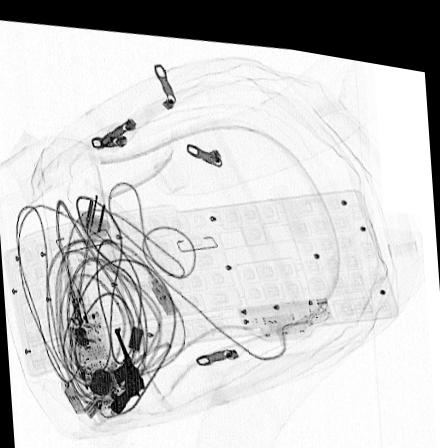Gun: (108, 322, 146, 410)
